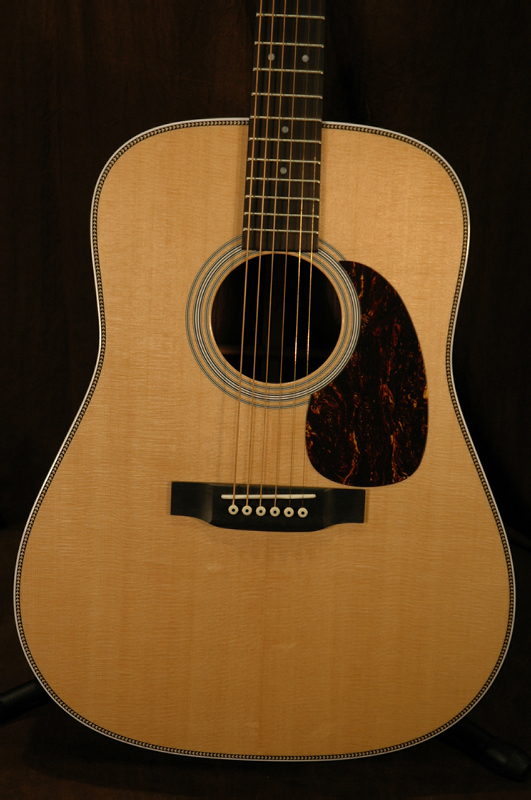guitar: (13, 1, 515, 764)
